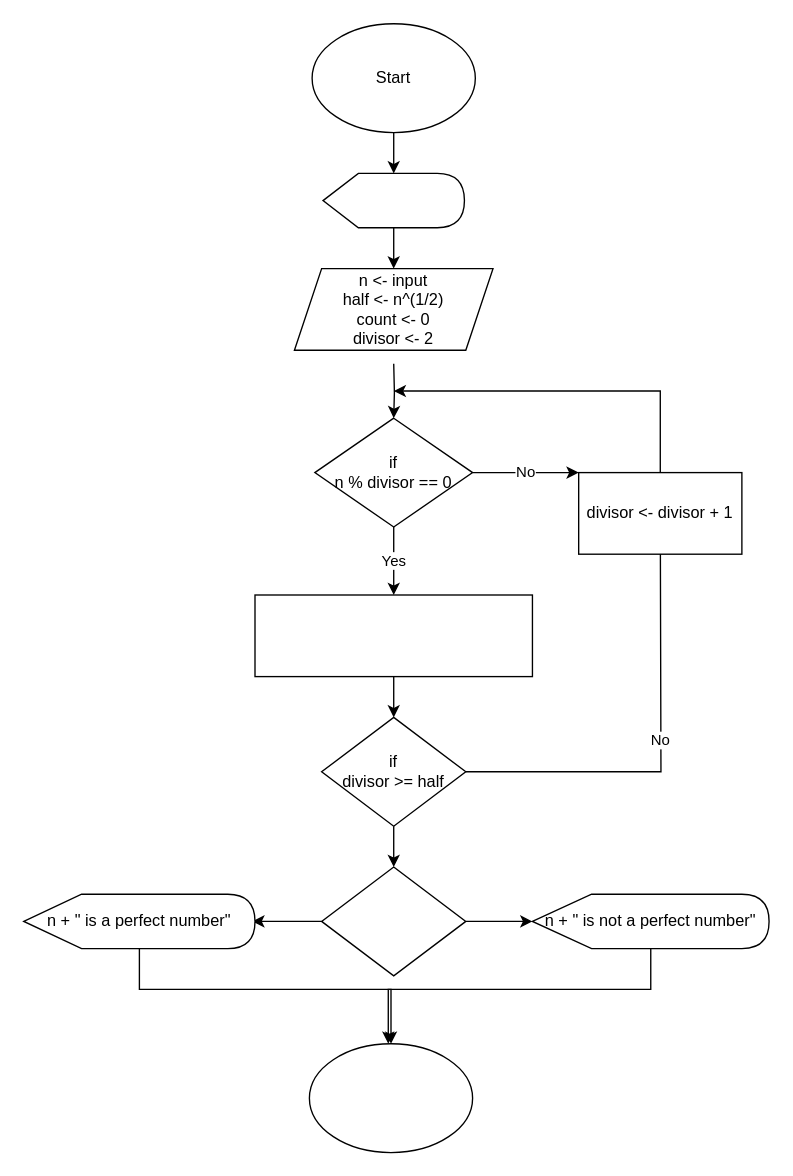
The diagram is 793 pixels wide and 1176 high, and some of its shapes have lost their labels. Here are the shapes that lost their labels. From the top down, the centre of each, then its label:
point 393,200: "Enter a number"
point 393,635: count <- count + divisor + (n / divisor)
point 393,921: if count == n
point 390,1097: End
